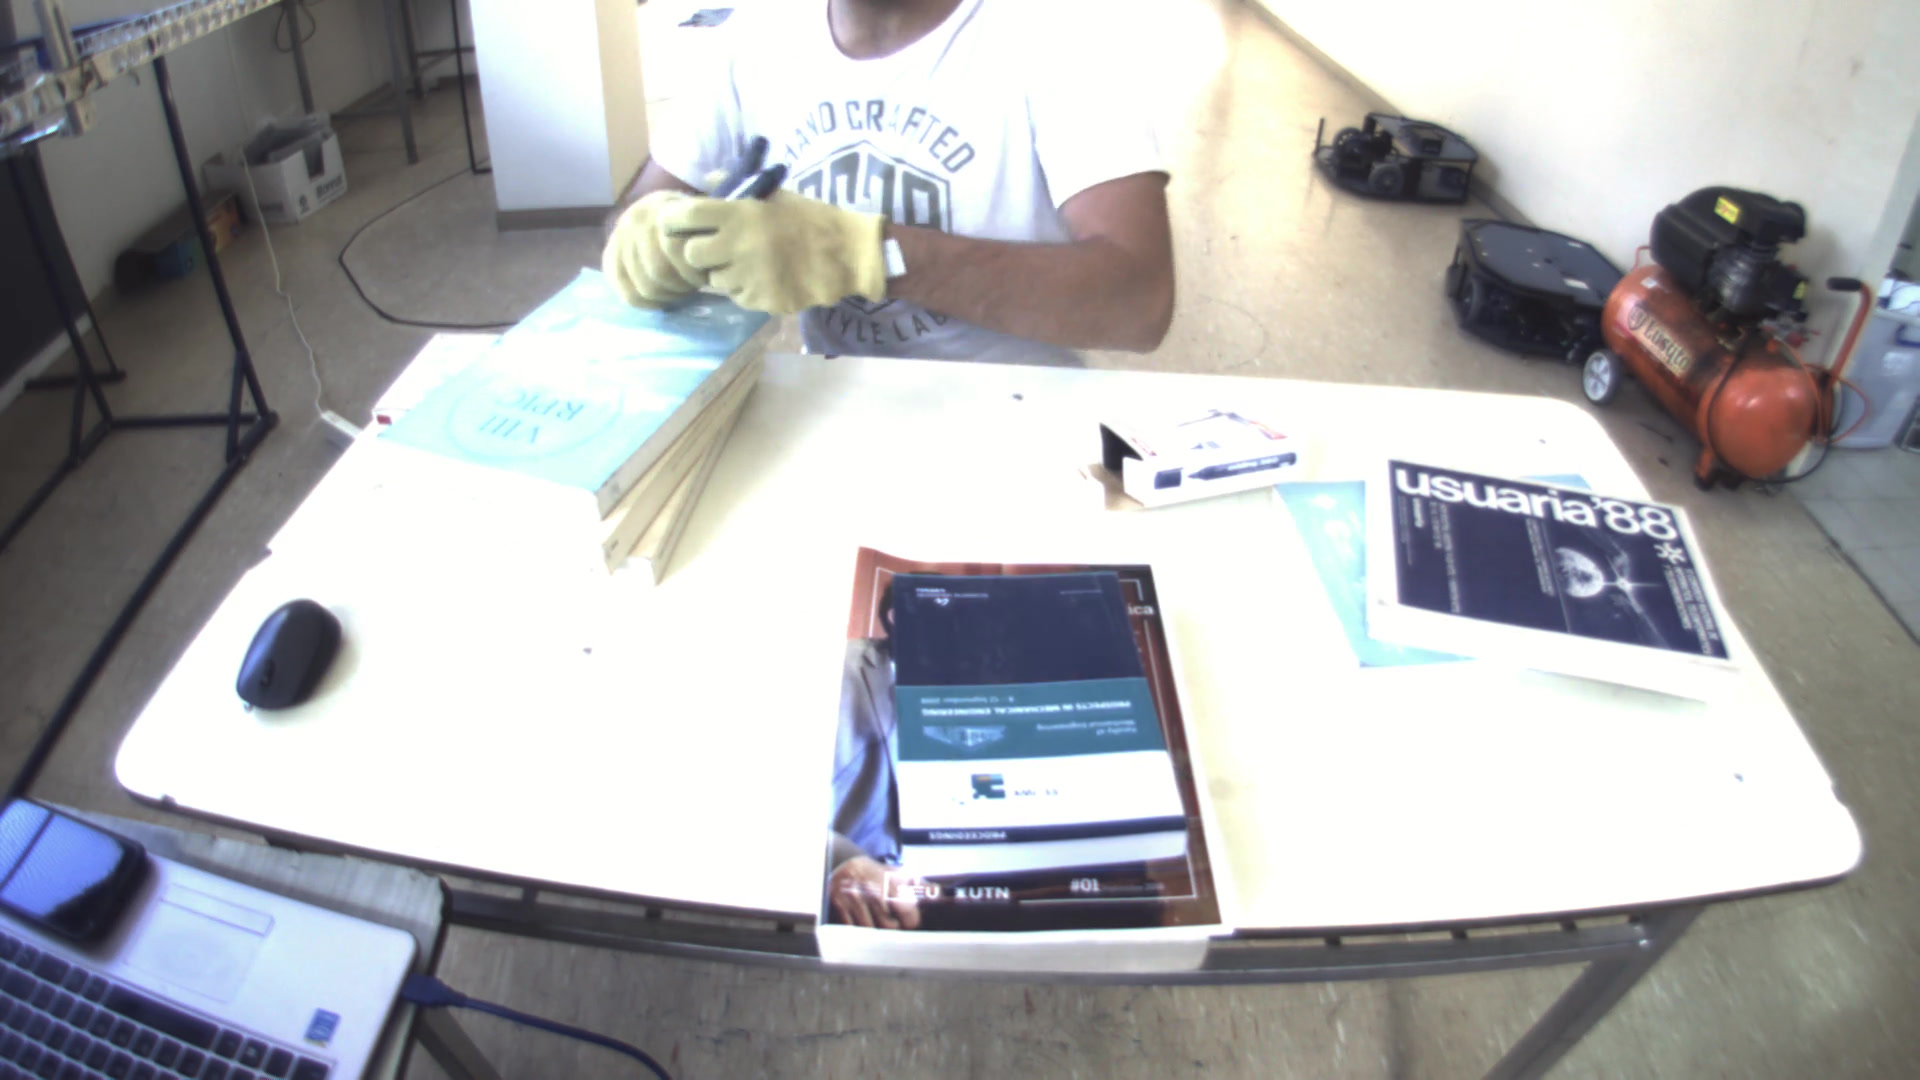hand: (676, 189, 887, 316), (593, 187, 707, 311)
